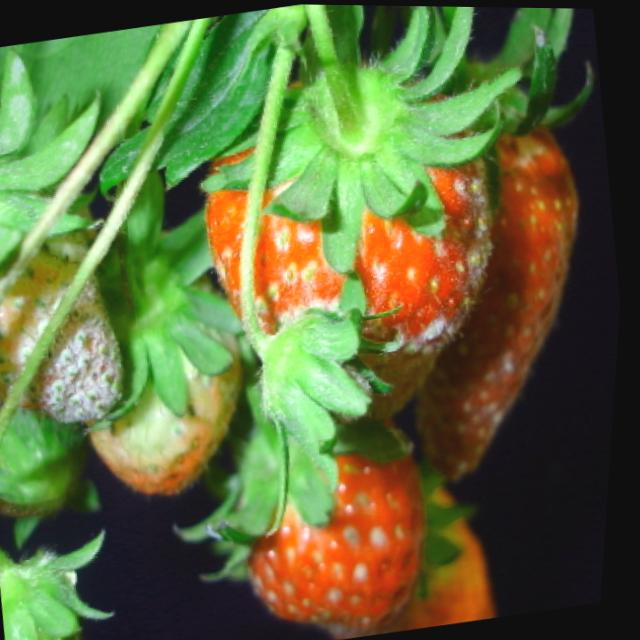Powdery Mildew Fruit: (208, 60, 498, 422), (395, 56, 582, 480), (246, 418, 439, 637), (0, 159, 131, 428)
